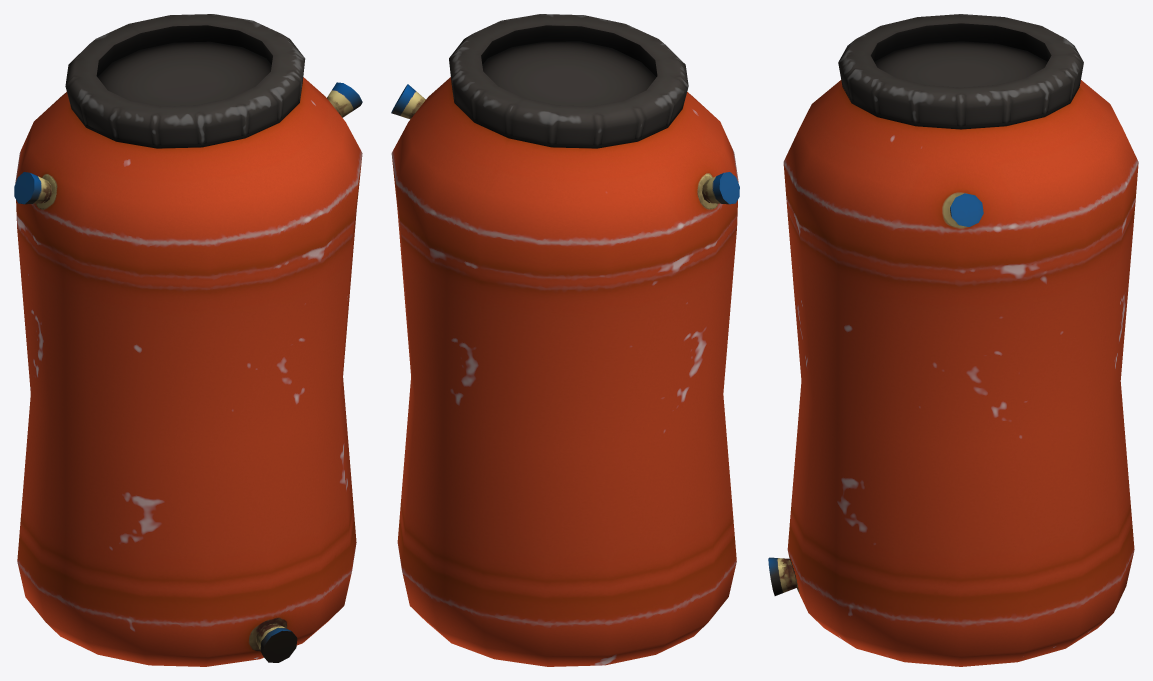
The model's file is BarrelPlastic01.FBX.
3 renders of one model, left to right at view 1: azimuth 30°, elevation 25°; view 2: azimuth 150°, elevation 25°; view 3: azimuth 270°, elevation 25°, orthographic.
Visible parts, largest first — view 1: BarrelPlastic01; view 2: BarrelPlastic01; view 3: BarrelPlastic01.
Part boxes in pixels (left/top/right/bottom): BarrelPlastic01: left=14, top=14, right=362, bottom=666; BarrelPlastic01: left=391, top=14, right=739, bottom=666; BarrelPlastic01: left=768, top=14, right=1138, bottom=666.
Size of what is drawn, in the model's own units: 0.7627 by 1.17 by 0.7071.
